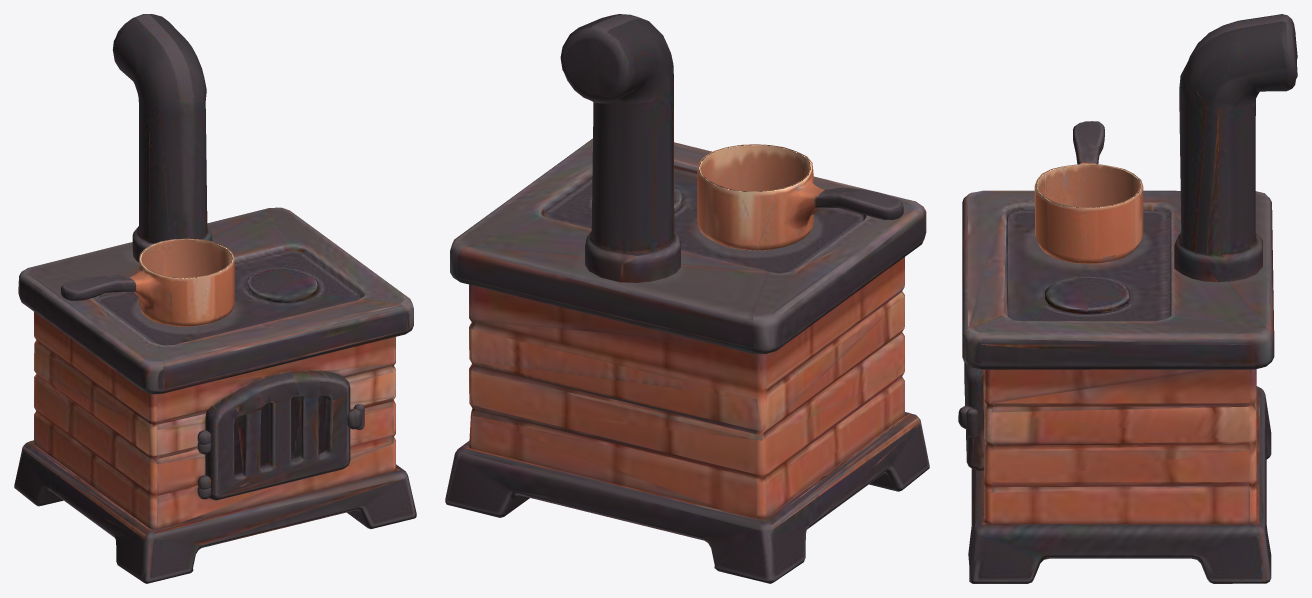
File: item-stove.glb
3 views of the same model, side by side, from view 1: azimuth 30°, elevation 25°; view 2: azimuth 150°, elevation 25°; view 3: azimuth 270°, elevation 25° (orthographic). The views are drawn at different scales.
Size of the model in its own units: 0.6919 by 0.9521 by 0.5942.
Materials: 1 (1 with a texture image).
